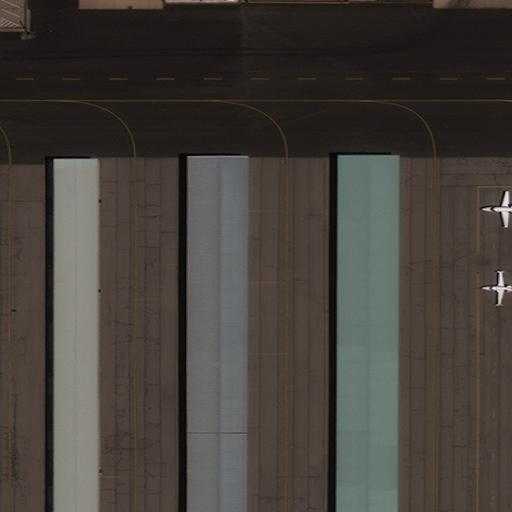Small Civil Transport: (479, 191, 512, 227), (479, 273, 512, 303)
